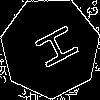H: (25, 22, 81, 76)
